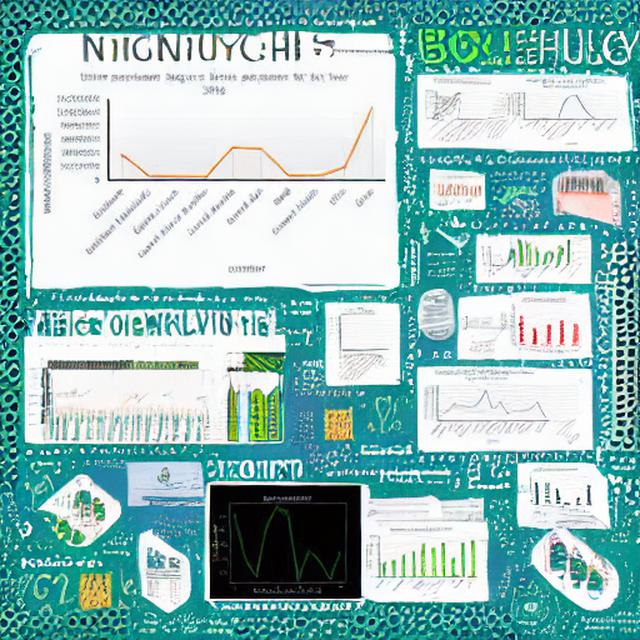Graph: (38, 65, 393, 283), (211, 486, 361, 599), (421, 369, 551, 446), (362, 526, 482, 597), (509, 78, 622, 149), (502, 298, 584, 353), (520, 468, 595, 512), (431, 176, 483, 207)
